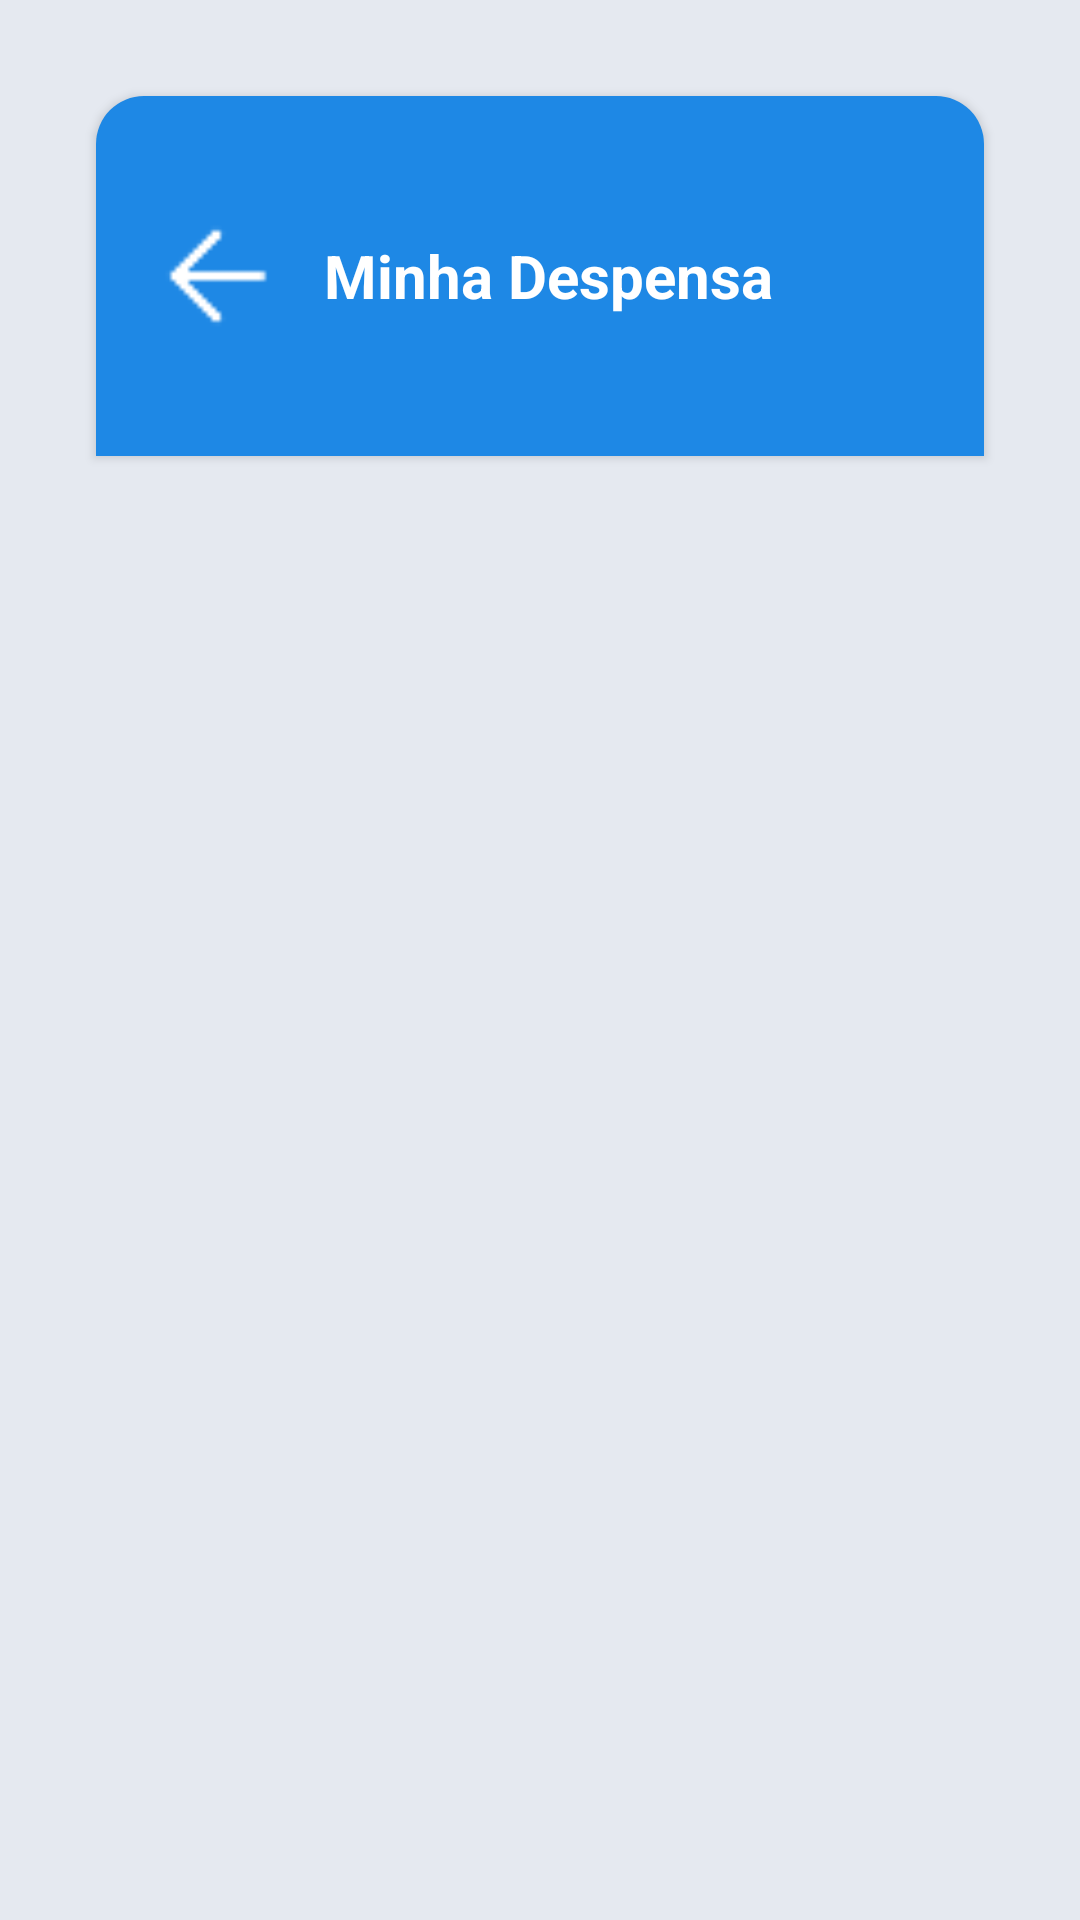

Icons on this 1080*1920 Android screen, each with its box as (x1, y1, x2, y2):
Voltar: (169, 229, 267, 323)
